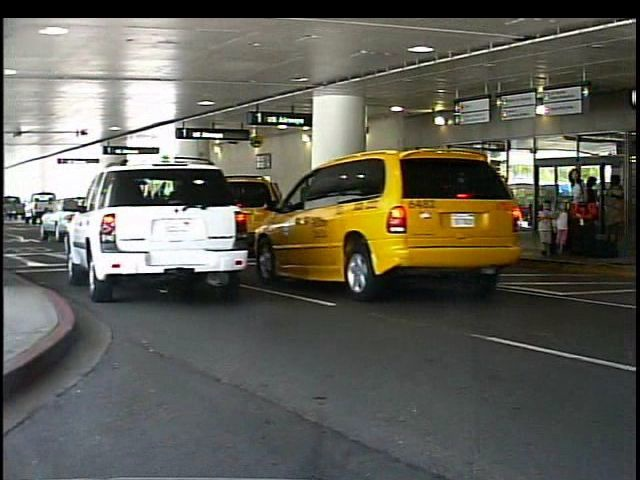person: (489, 172, 518, 259), (566, 167, 592, 256), (607, 174, 630, 243), (584, 175, 604, 244), (539, 200, 559, 256), (556, 200, 573, 254)
